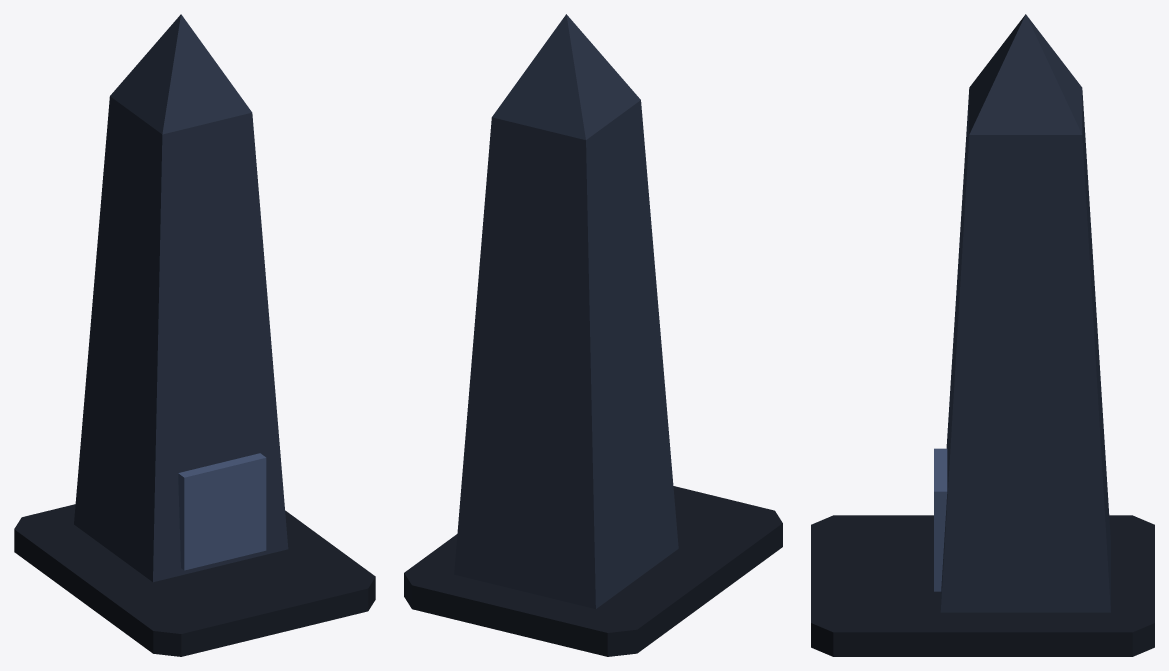
Rendered from grave6.FBX.
3 views of the same model, side by side, from view 1: azimuth 30°, elevation 25°; view 2: azimuth 150°, elevation 25°; view 3: azimuth 270°, elevation 25° (orthographic). The views are drawn at different scales.
Visible parts, largest first — view 1: grave6; view 2: grave6; view 3: grave6.
Part boxes in pixels (left/top/right/bottom): grave6: left=14, top=14, right=375, bottom=656; grave6: left=404, top=14, right=782, bottom=656; grave6: left=811, top=14, right=1154, bottom=656.
Bounding box in the file's own units: 13.31 × 31.19 × 16.53.
